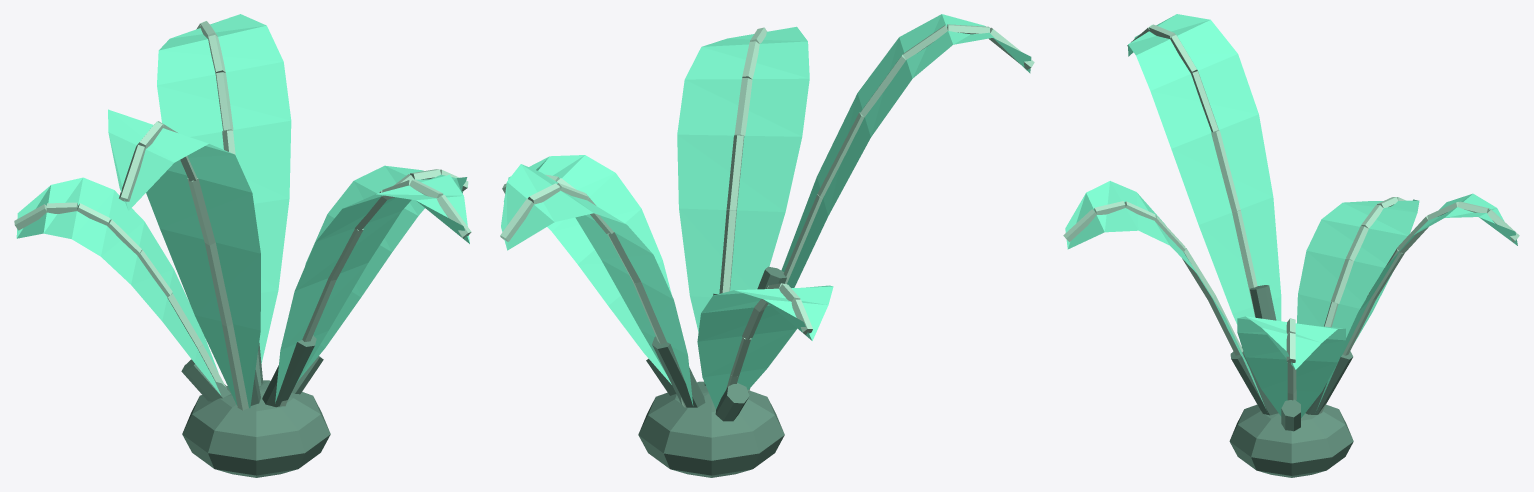
Rendered from glowfern-young.glb.
3 renders of one model, left to right at view 1: azimuth 30°, elevation 25°; view 2: azimuth 150°, elevation 25°; view 3: azimuth 270°, elevation 25°, orthographic. The views are drawn at different scales.
Visible parts, largest first — view 1: glowfern.sway-pivot; view 2: glowfern.sway-pivot; view 3: glowfern.sway-pivot.
Part boxes in pixels (bbox=[...]): glowfern.sway-pivot: bbox=[14, 14, 471, 477]; glowfern.sway-pivot: bbox=[500, 14, 1034, 477]; glowfern.sway-pivot: bbox=[1063, 14, 1519, 477].
Bounding box in the file's own units: 0.5201 × 0.4952 × 0.5554.
